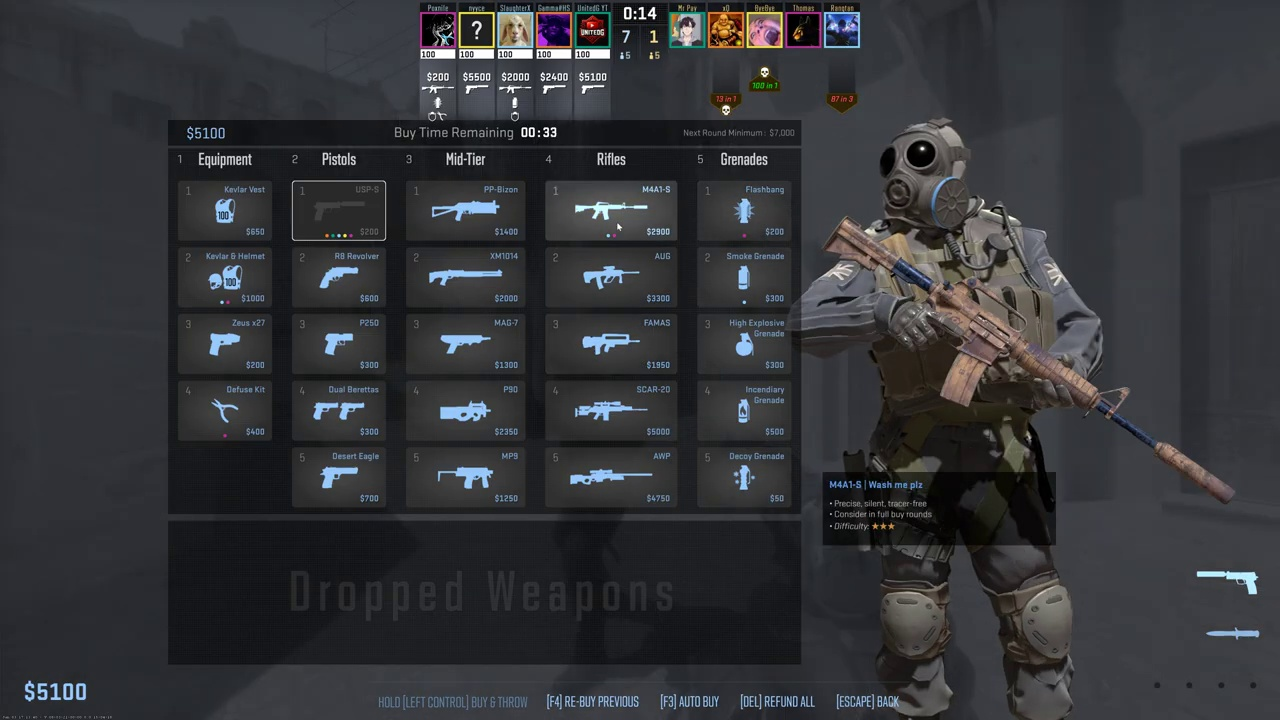CT: (850, 122, 1088, 713)
